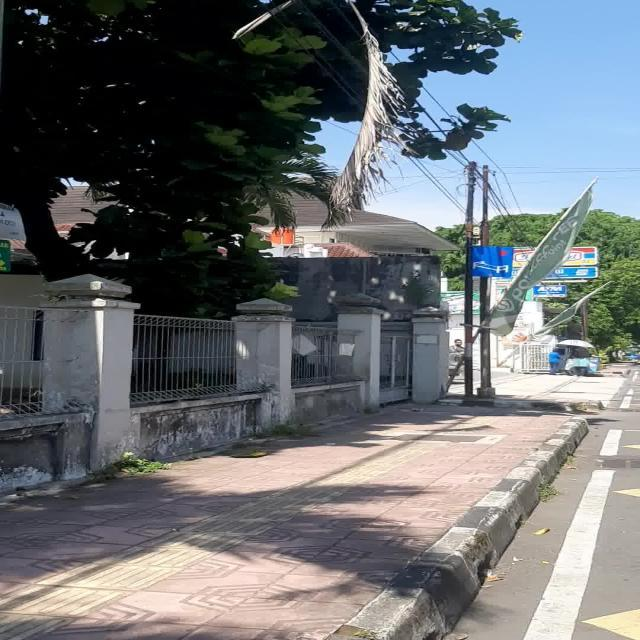Rumah Sakit: (470, 246, 512, 278)
